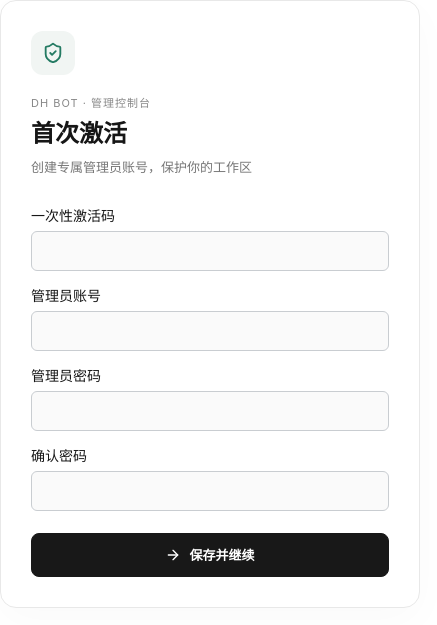
prevents duplicate submission and presents success as status
The image size is (437, 625).
Type "Independent test password!" into the password field labelled "管理员密码".
click(210, 411); type("Independent test password!")  # box [31,391,389,431]
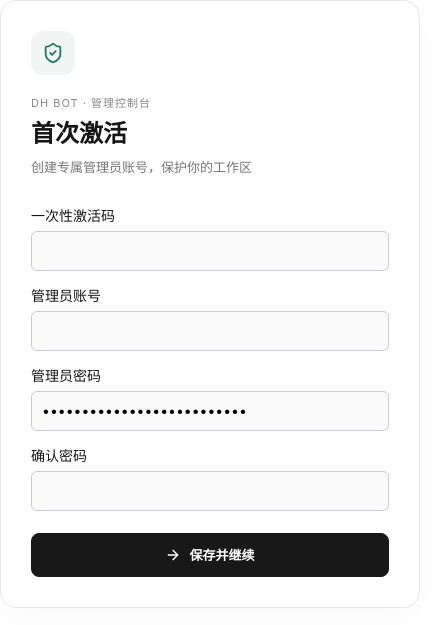
Type "Independent test password!" into the password field labelled "确认密码".
click(210, 491); type("Independent test password!")  # box [31,471,389,511]
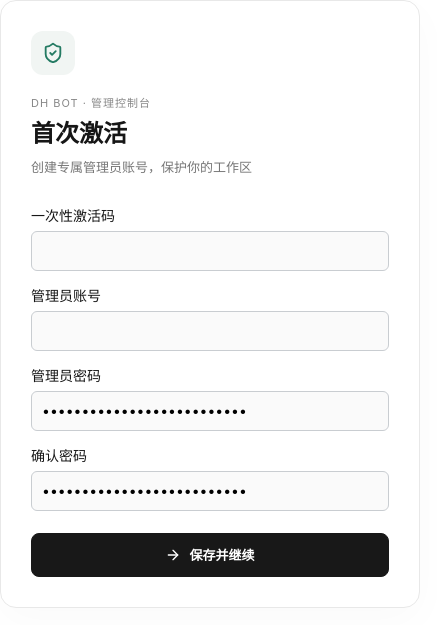
Submit the form, box [31,205,389,577]
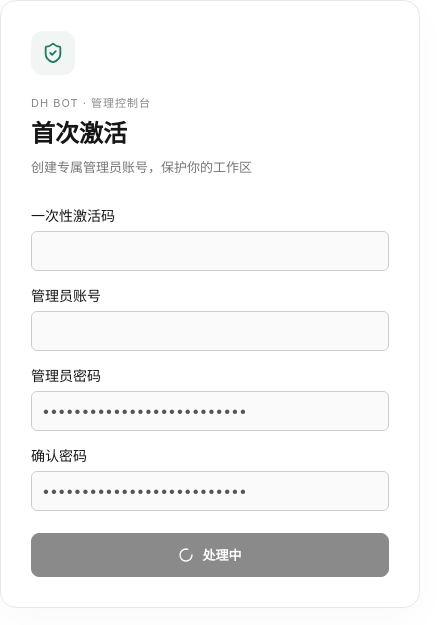
Submit the form, box [31,205,389,577]
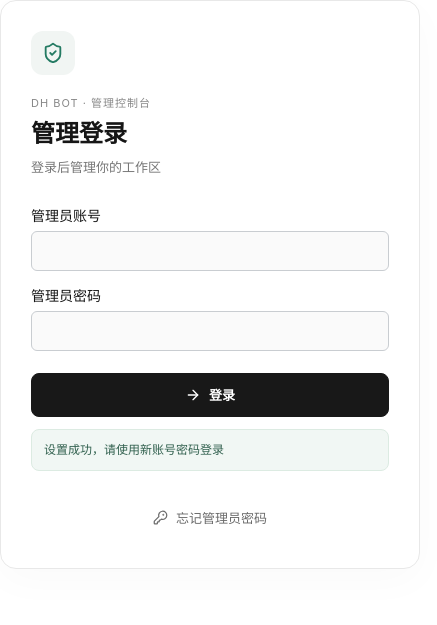
Expected: the password field labelled "管理员密码" is empty, [31,311,389,351]
Result: the message shows "设置成功" at [44,442,224,457]
